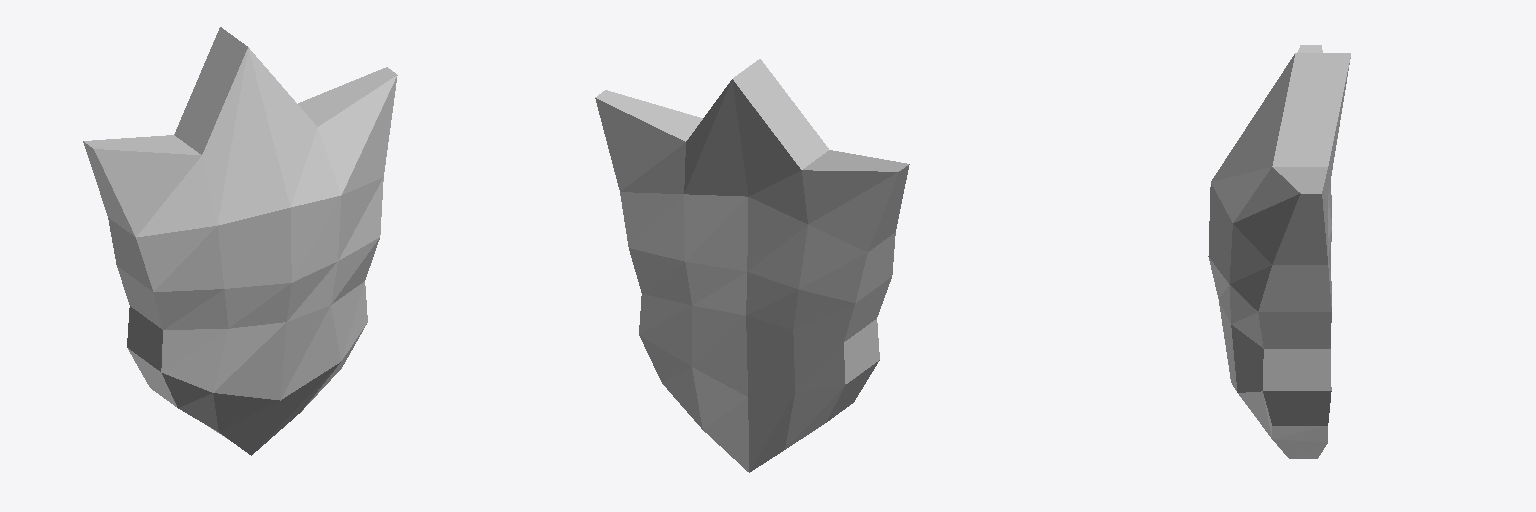
File: Gaurd.obj
The picture shows the model from 3 angles: view 1: azimuth 30°, elevation 25°; view 2: azimuth 150°, elevation 25°; view 3: azimuth 270°, elevation 25°; orthographic projection.
Parts seen in each view (by area): view 1: Cube.001; view 2: Cube.001; view 3: Cube.001.
Boxes of the visible parts, x1=… form: Cube.001: x1=83, y1=27, x2=397, y2=455; Cube.001: x1=595, y1=59, x2=909, y2=472; Cube.001: x1=1208, y1=45, x2=1350, y2=458.
Bounding box in the file's own units: 3.7 × 4.74 × 1.51.